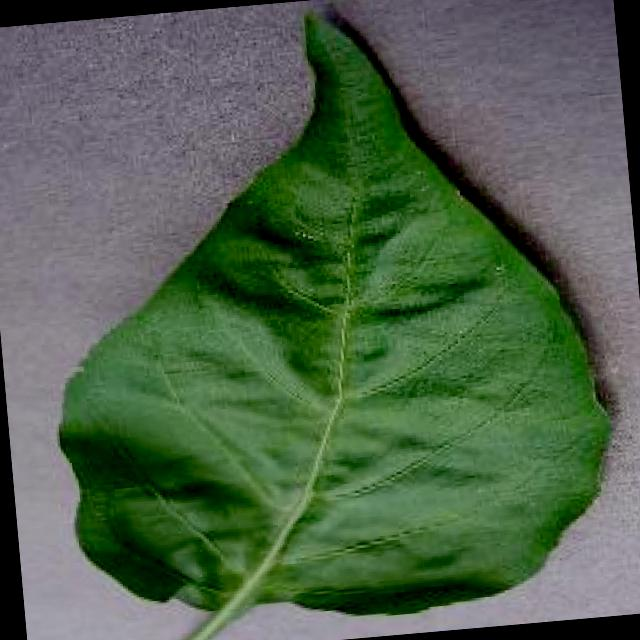Leaf: (31, 0, 636, 635)
